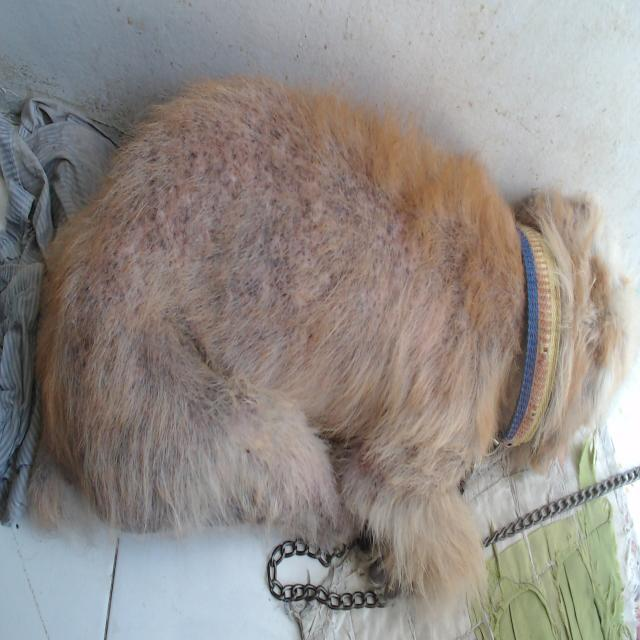demodicosis: (104, 96, 359, 337)
